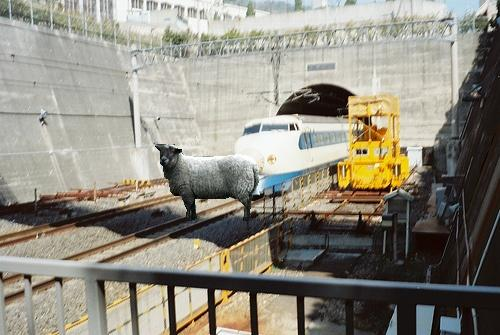tampered: (154, 144, 259, 221)
